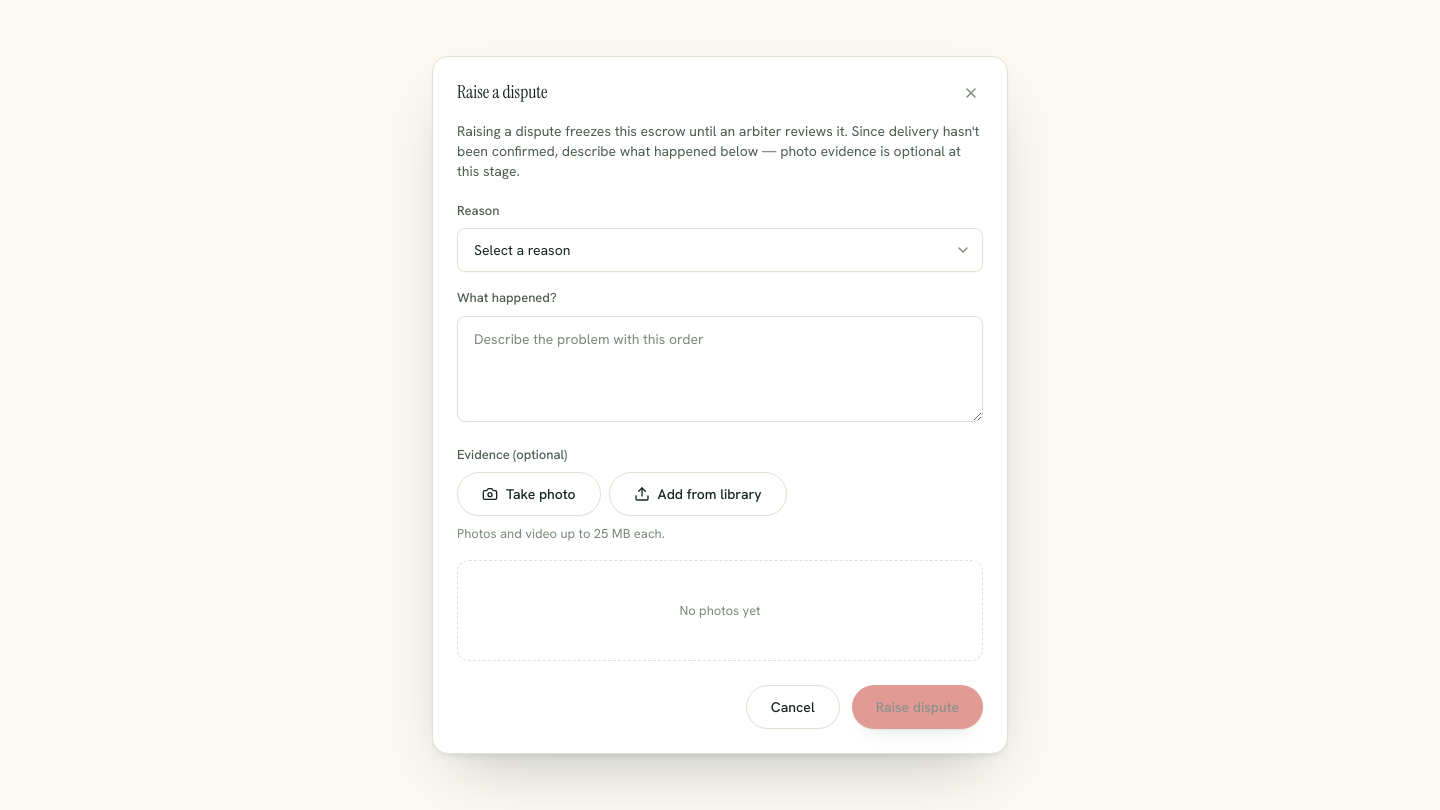
RaiseDisputeModal › lets the buyer submit from FUNDED with no evidence, since the item was never delivered
Expected: the text "evidence is optional at this stage" is shown, [457,122,979,180]
Expected: the button "Raise dispute" is disabled, [852,685,983,729]
Select "Item not received" in the dropdown labelled "Reason" at (720, 250), box [457,228,983,272]
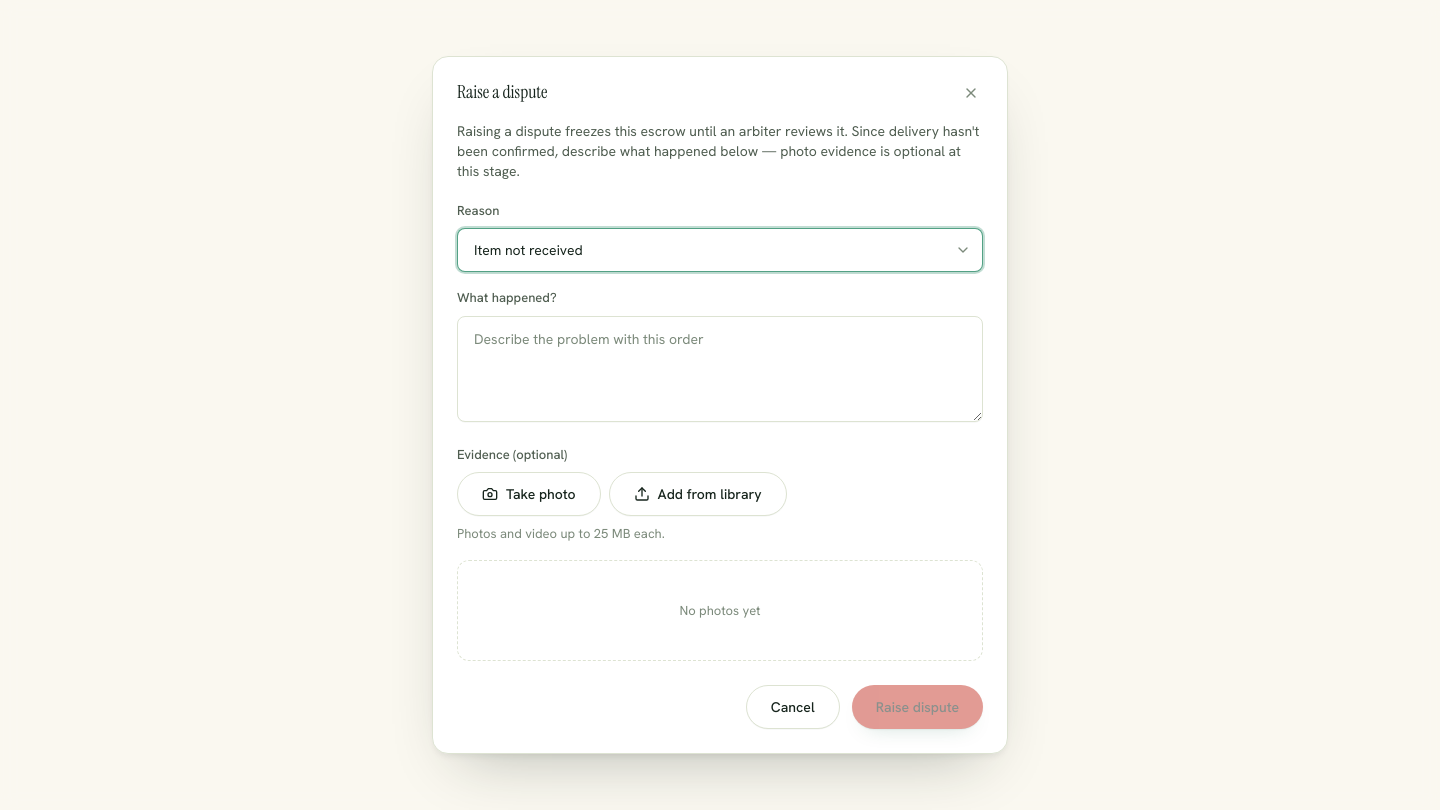
Type "The item never arrived." into the text box labelled "What happened?" at (720, 369), box [457,316,983,422]
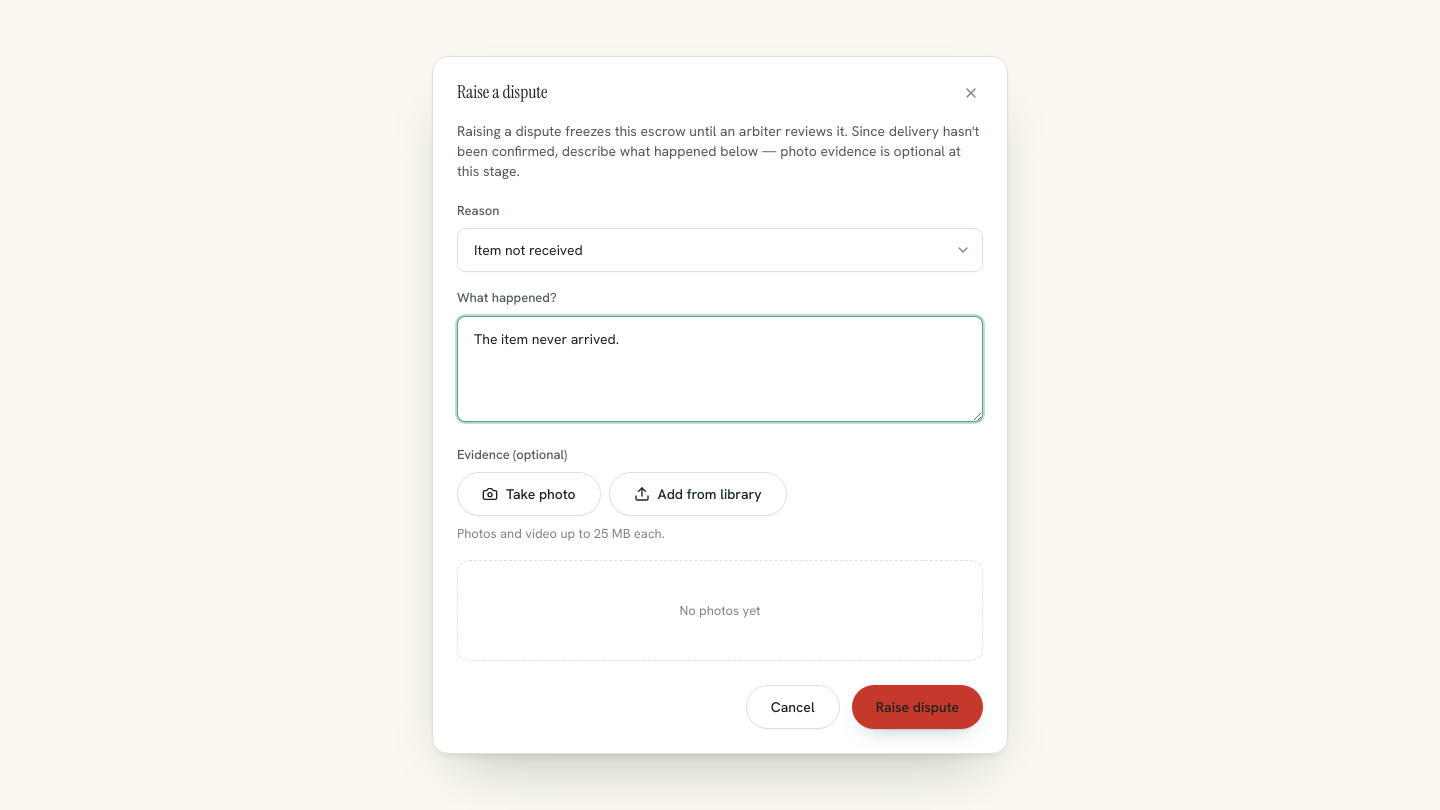
Now the button "Raise dispute" is enabled, box [852,685,983,729]
